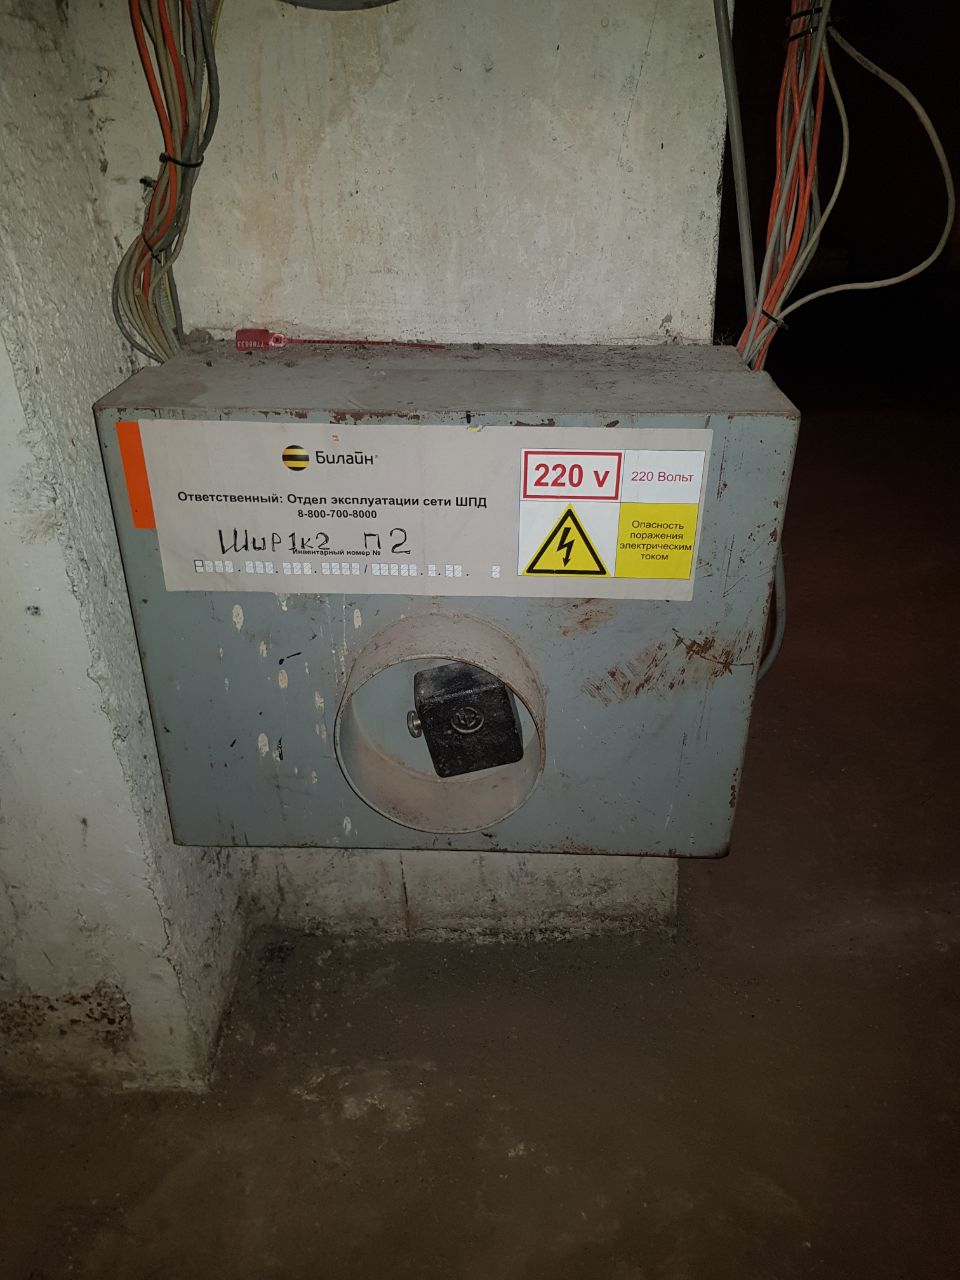shta-3: (86, 331, 808, 865)
